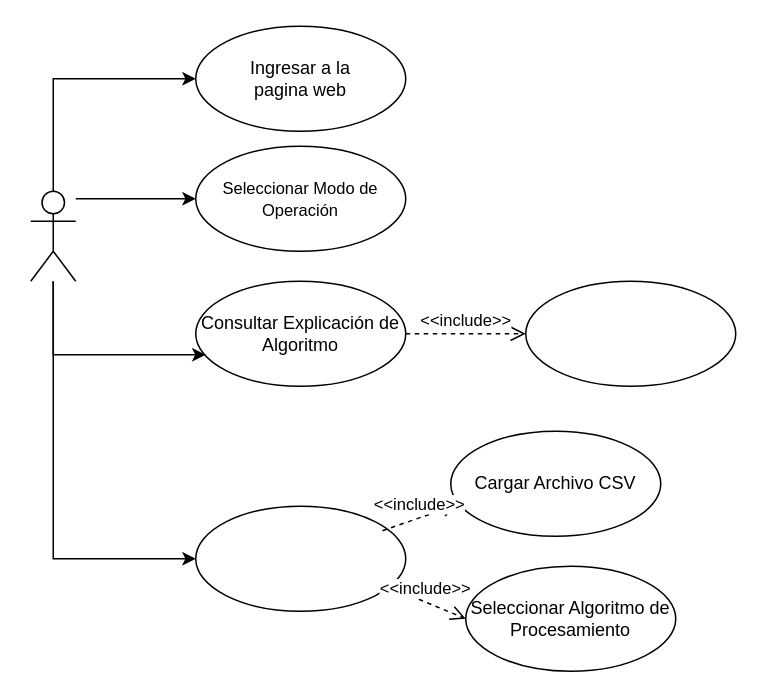
The diagram is 762 pixels wide and 698 high, and some of its shapes have lost their labels. The centre of each missing label's shape, as x and y in pixels:
"Cliente" belongs at (x=52, y=235).
"Ejecutar Algoritmo de Procesamiento de Datos" belongs at (x=300, y=558).
"Seleccionar Tipo de Algoritmo para Explicación" belongs at (x=630, y=333).
